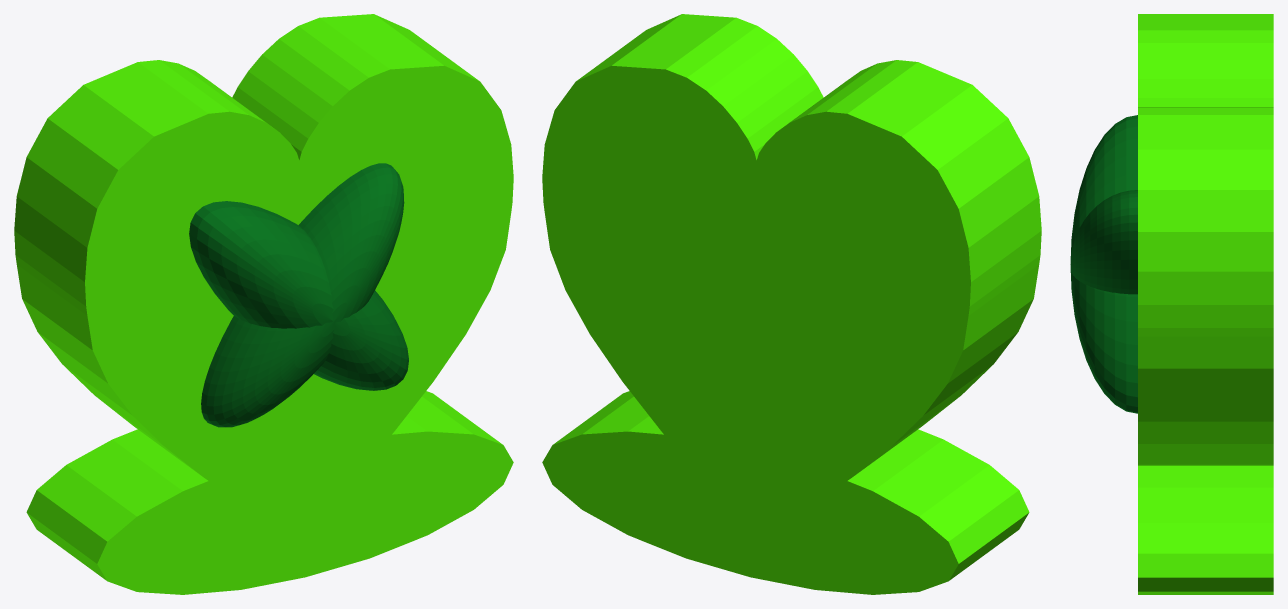
The model's file is tinker.obj.
3 views of the same model, side by side, from view 1: azimuth 30°, elevation 25°; view 2: azimuth 150°, elevation 25°; view 3: azimuth 270°, elevation 25° (orthographic). The views are drawn at different scales.
Parts seen in each view (by area): view 1: group_0_5570048, group_0_225049; view 2: group_0_5570048; view 3: group_0_5570048, group_0_225049.
Boxes of the visible parts, <box> form: group_0_5570048: <box>14,14,513,594</box>; group_0_225049: <box>189,163,408,427</box>; group_0_5570048: <box>542,14,1041,594</box>; group_0_5570048: <box>1138,14,1273,594</box>; group_0_225049: <box>1070,115,1137,413</box>.
Size of the model in its own units: 70 by 76 by 30.
